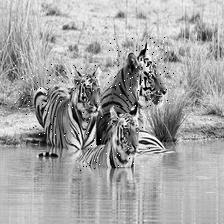tiger: (14, 64, 102, 137), (107, 38, 173, 108), (80, 114, 151, 172)
